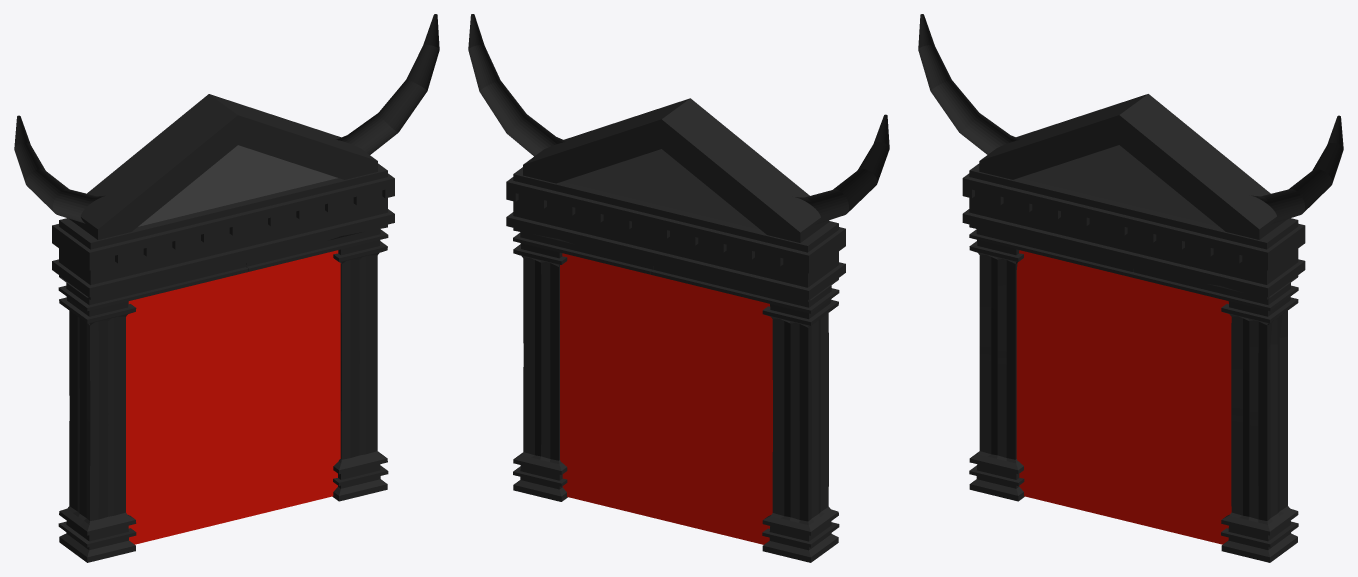
The model's file is Gate.fbx.
3 renders of one model, left to right at view 1: azimuth 30°, elevation 25°; view 2: azimuth 150°, elevation 25°; view 3: azimuth 330°, elevation 25°, orthographic.
Visible parts, largest first — view 1: Cube.006, Cube, Cube.002, Cube.004, Cube.001, Cylinder, Cube.003, Cube.005; view 2: Cube.006, Cube, Cube.002, Cube.004, Cube.001, Cylinder, Cube.003, Cube.005; view 3: Cube.006, Cube.002, Cube.001, Cube.004, Cube, Cylinder, Cube.003, Cube.005.
Part boxes in pixels (x1,y1,x2,y2): Cube.006: (126,250,340,544); Cube: (58,263,248,562); Cube.002: (59,145,387,299); Cube.004: (69,94,377,239); Cube.001: (246,229,388,501); Cylinder: (14,14,439,223); Cube.003: (52,173,394,270); Cube.005: (52,209,394,297); Cube.006: (560,253,772,544); Cube: (651,266,839,562); Cube.002: (513,149,838,302); Cube.004: (523,98,829,242); Cube.001: (513,232,653,501); Cylinder: (468,14,889,224); Cube.003: (506,177,845,273); Cube.005: (506,212,845,299); Cube.006: (1016,250,1231,544); Cube.002: (969,145,1298,299); Cube.001: (1131,268,1298,562); Cube.004: (979,94,1287,239); Cube: (969,229,1133,501); Cylinder: (918,14,1343,223); Cube.003: (962,173,1305,270); Cube.005: (962,209,1305,297).
Bounding box in the file's own units: 1555 × 1591 × 238.
